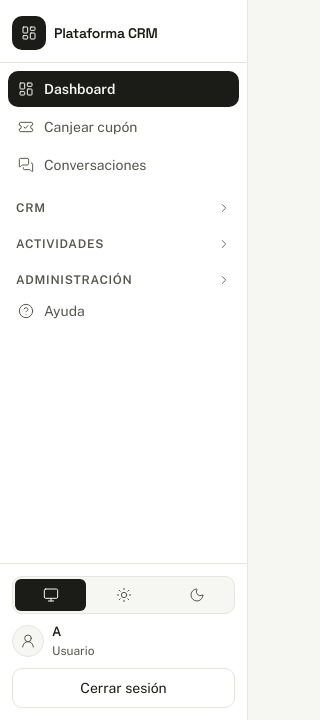
AppLayout — secciones colapsables (ítem 79) › un USER ve la sección Administración con QR como único link (no pierde el QR que ya tenía)
The image size is (320, 720).
Click the button "Administración" at [124, 274], box left=8, top=257, right=239, bottom=291
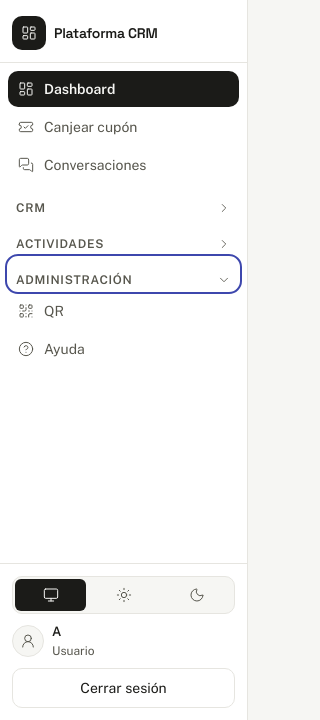
Expected: the links read "QR", in this order, left=18, top=302, right=64, bottom=319
